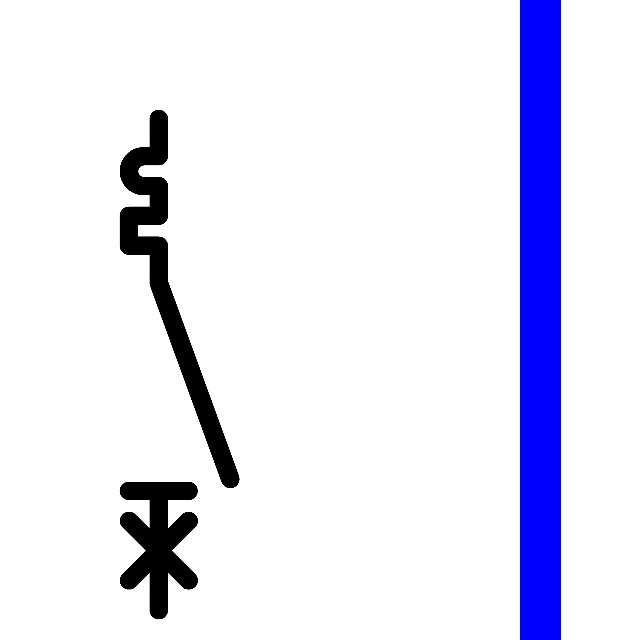interruptor_termomagnetico: (116, 106, 242, 623)
